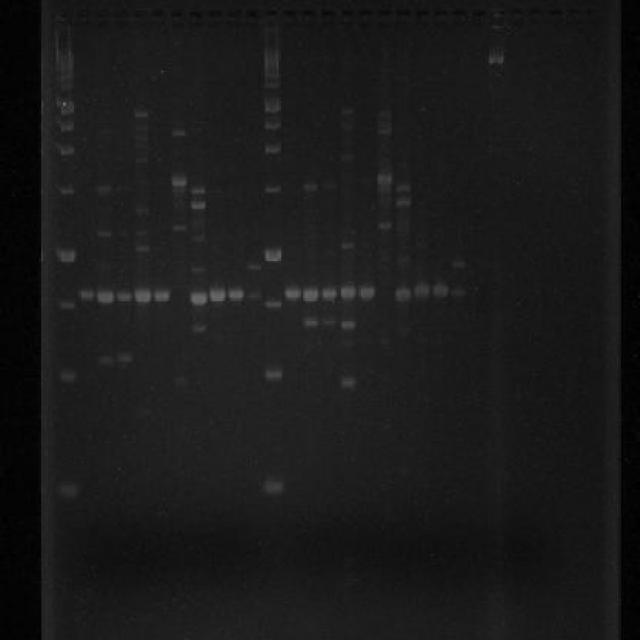B: (94, 288, 114, 306), (188, 288, 208, 306), (169, 373, 191, 389), (413, 282, 432, 300), (394, 285, 412, 304), (133, 286, 153, 303), (358, 284, 377, 301), (488, 50, 506, 67), (208, 286, 227, 302), (302, 286, 321, 302), (153, 286, 172, 302), (432, 282, 450, 298), (340, 284, 358, 300), (320, 286, 338, 302), (340, 374, 358, 390), (228, 286, 245, 302), (133, 205, 152, 218), (302, 316, 321, 329), (376, 172, 393, 186), (284, 286, 301, 300), (395, 196, 413, 209), (134, 226, 152, 239), (115, 290, 134, 302), (449, 286, 466, 299), (190, 264, 208, 276), (132, 154, 150, 166), (190, 182, 206, 195), (190, 198, 207, 210), (339, 318, 356, 330), (172, 174, 186, 188), (115, 352, 134, 362), (78, 289, 95, 300), (396, 183, 412, 194), (246, 290, 262, 301), (321, 316, 337, 327), (377, 126, 394, 136), (97, 228, 114, 238), (98, 354, 115, 364), (377, 220, 392, 231), (451, 259, 466, 270), (132, 109, 150, 118), (134, 244, 152, 253), (246, 262, 262, 272), (340, 106, 354, 117), (192, 323, 206, 334), (171, 128, 186, 138), (302, 184, 318, 193), (340, 241, 356, 250), (173, 224, 187, 233), (97, 185, 111, 193)
L: (47, 1, 606, 26)
M: (53, 24, 82, 507), (262, 21, 286, 502)
P: (56, 480, 78, 500), (264, 478, 284, 496), (57, 245, 77, 262), (59, 97, 76, 117), (264, 96, 281, 115), (56, 182, 76, 198), (56, 370, 78, 384), (264, 246, 282, 262), (56, 120, 76, 134), (59, 141, 76, 157), (58, 298, 76, 312), (264, 296, 282, 310), (264, 142, 282, 156), (264, 368, 284, 380), (264, 182, 282, 195), (264, 117, 280, 131), (264, 78, 280, 91), (60, 81, 76, 92), (263, 70, 280, 79), (60, 74, 76, 82)
Pc: (470, 3, 487, 20), (526, 6, 546, 20), (450, 6, 470, 20), (488, 4, 507, 18), (316, 8, 336, 21), (507, 6, 525, 20), (412, 6, 430, 20), (395, 6, 413, 20), (375, 6, 393, 20), (356, 6, 374, 20), (243, 7, 260, 21), (583, 4, 600, 18), (204, 7, 222, 20), (432, 6, 450, 19), (74, 8, 88, 24), (566, 6, 582, 20), (338, 6, 354, 20), (54, 8, 70, 21), (187, 8, 201, 21), (226, 8, 240, 21), (548, 7, 564, 18), (92, 9, 105, 22), (280, 8, 296, 18), (112, 10, 126, 21), (130, 10, 144, 21), (150, 10, 164, 21), (169, 10, 183, 21), (264, 7, 278, 18), (299, 8, 313, 18)
